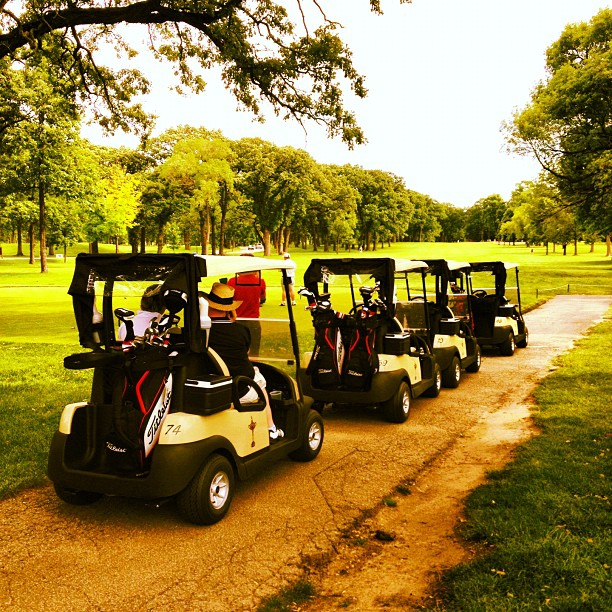car: (52, 242, 311, 522), (308, 257, 437, 412), (472, 256, 534, 362), (432, 264, 477, 384)
sky: (356, 1, 555, 193)
tree: (1, 1, 380, 139)
vegetation: (1, 129, 612, 252)
